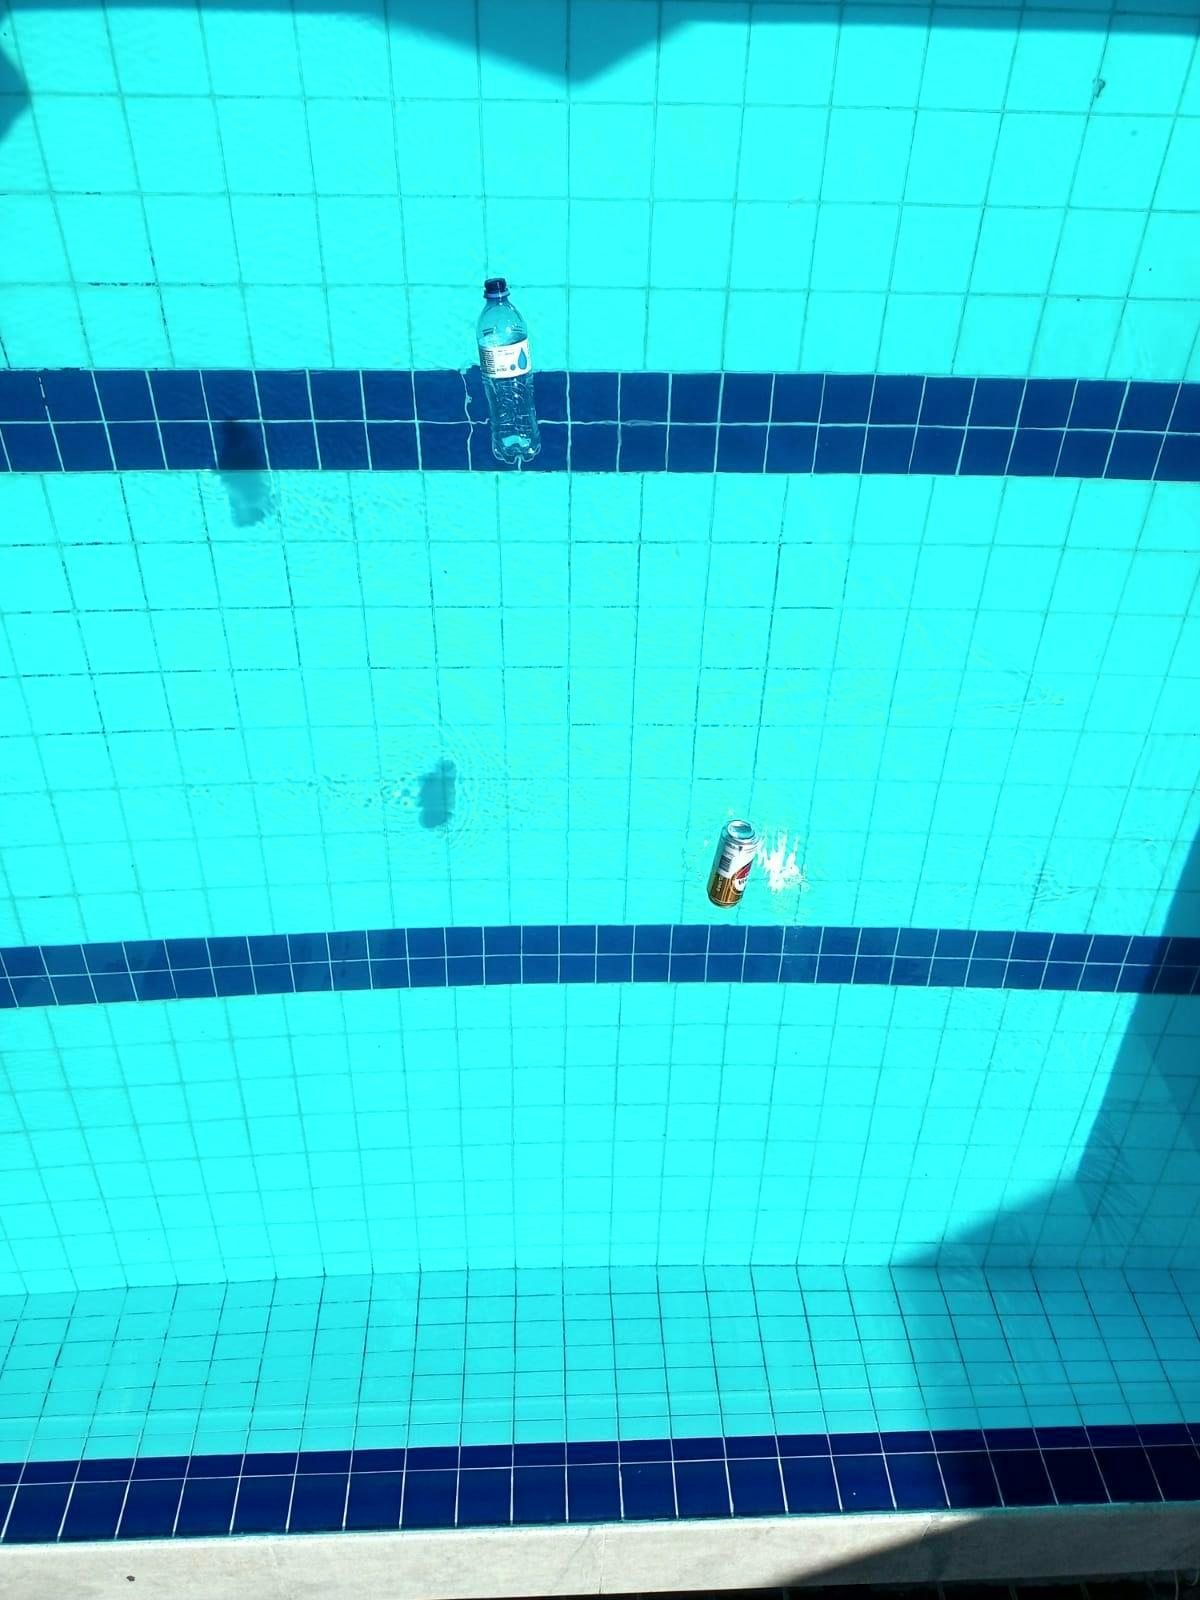Metal: (647, 805, 795, 950)
Plastic: (432, 244, 591, 515)
